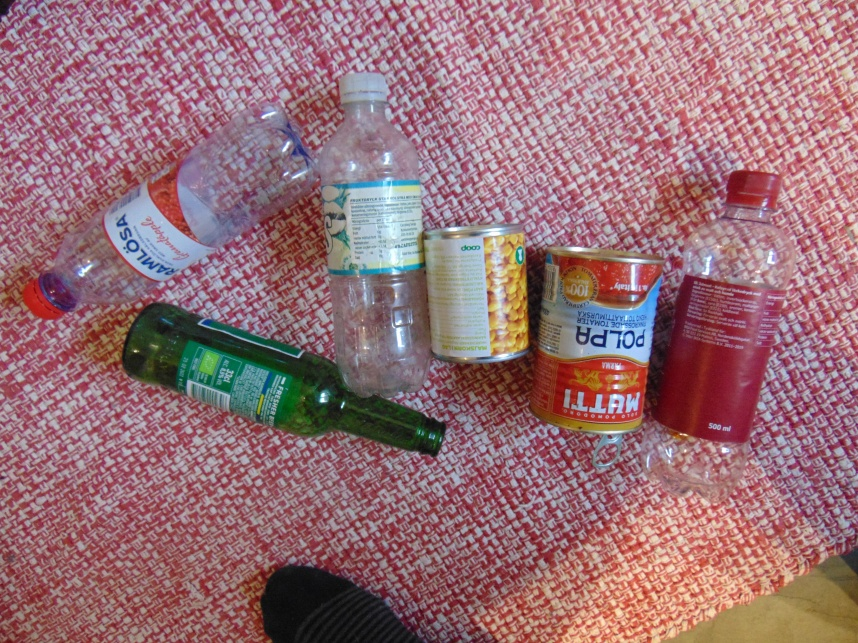glass_bottle: (120, 303, 447, 457)
metal_can: (526, 246, 666, 436), (422, 222, 531, 362)
plastic_bottle: (21, 101, 318, 322), (643, 170, 795, 494), (317, 72, 430, 396)
